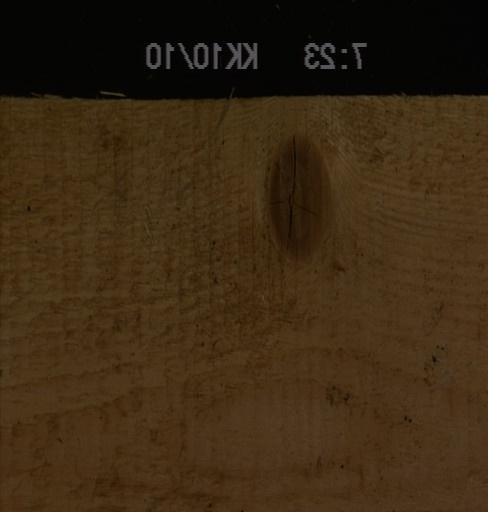sound_knot: (266, 132, 331, 260)
